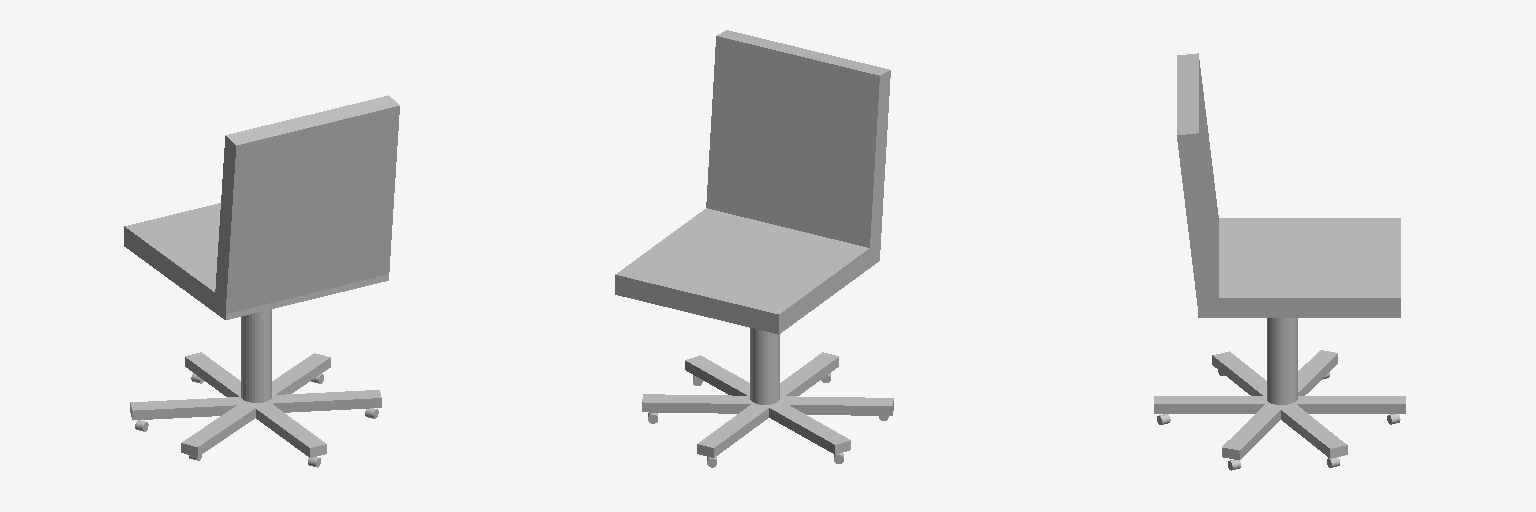
Rendered from chairunwrapped.obj.
The picture shows the model from 3 angles: view 1: azimuth 30°, elevation 25°; view 2: azimuth 150°, elevation 25°; view 3: azimuth 270°, elevation 25°; orthographic projection.
Parts seen in each view (by area): view 1: Cube_Cube.004; view 2: Cube_Cube.004; view 3: Cube_Cube.004.
Boxes of the visible parts, box(x1,y1,x2,y2) form: Cube_Cube.004: box(124, 95, 399, 467); Cube_Cube.004: box(615, 30, 893, 467); Cube_Cube.004: box(1154, 53, 1405, 470).
Bounding box in the file's own units: 4.3 × 6.67 × 4.52.